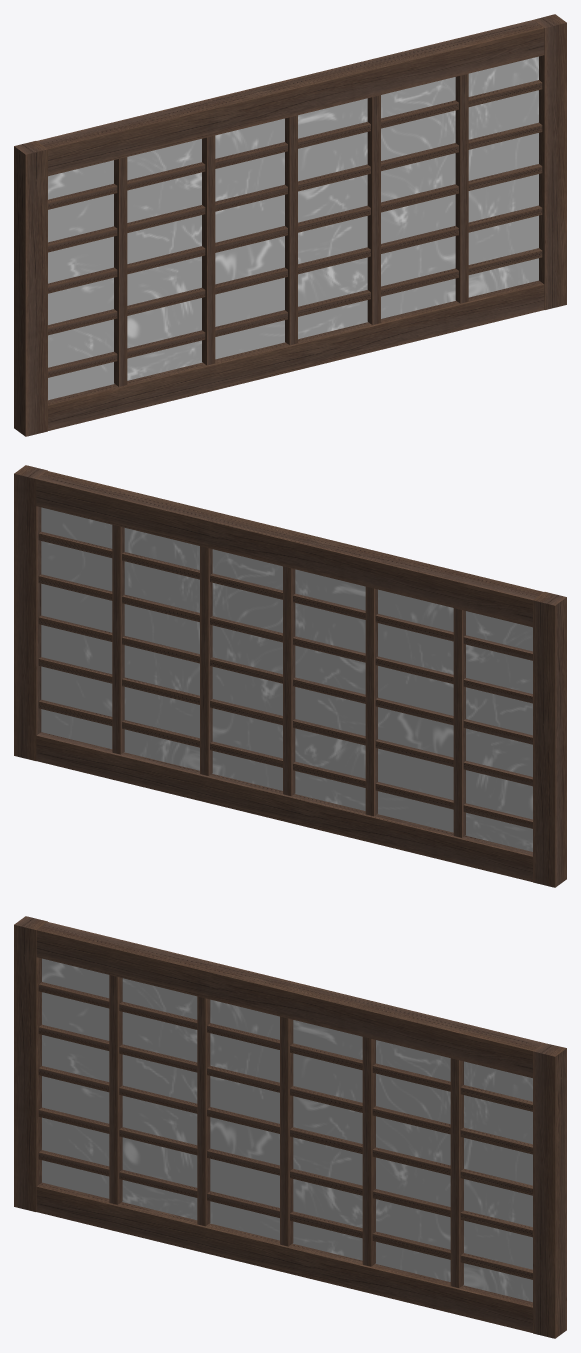
Rendered from hikido07br.fbx.
3 views of the same model, one above another, from view 1: azimuth 30°, elevation 25°; view 2: azimuth 150°, elevation 25°; view 3: azimuth 330°, elevation 25° (orthographic).
Visible parts, largest first — view 1: hikido07br; view 2: hikido07br; view 3: hikido07br.
Part boxes in pixels (x1,y1,x2,y2): hikido07br: (14, 14, 566, 436); hikido07br: (14, 465, 566, 887); hikido07br: (14, 916, 566, 1338).
Bounding box in the file's own units: 110 × 54.65 × 4.15.
